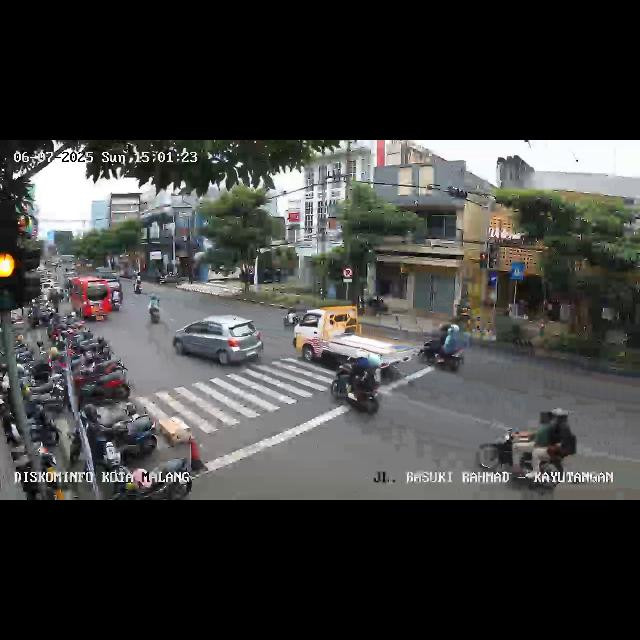car: (294, 304, 416, 381), (172, 316, 264, 370), (68, 276, 112, 322)
motorcycle: (476, 408, 580, 490), (331, 347, 383, 418), (418, 318, 468, 374), (148, 294, 164, 326), (282, 302, 300, 330), (110, 283, 122, 311), (132, 274, 142, 294)
